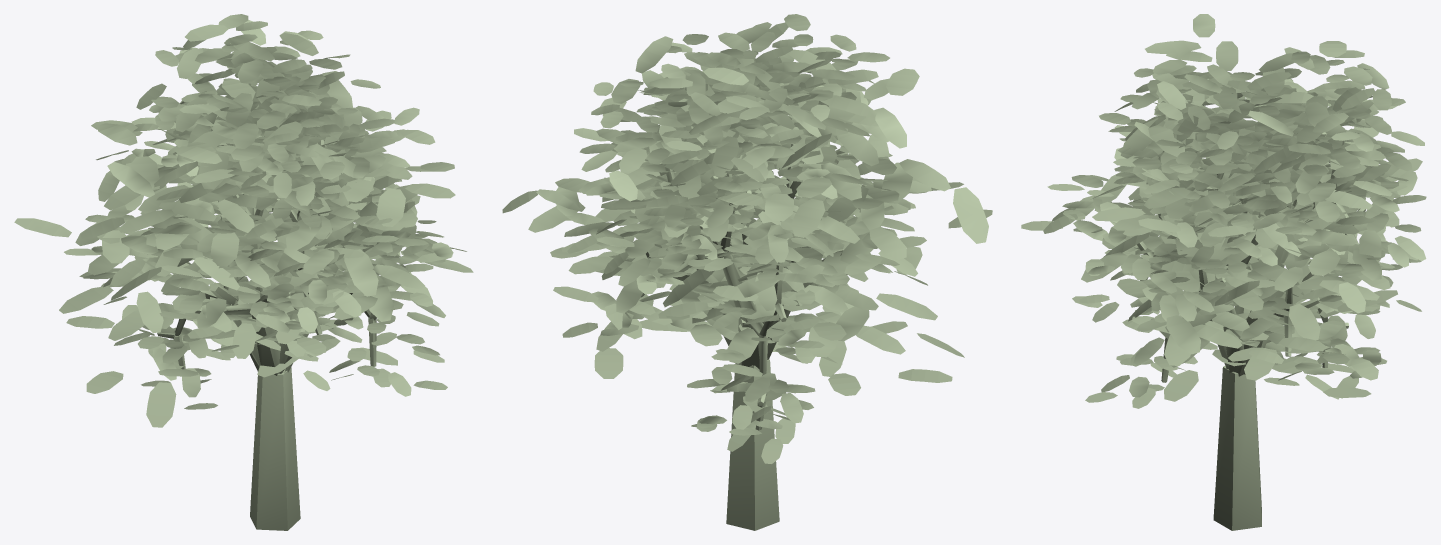
The model's file is tree_oak.glb.
The picture shows the model from 3 angles, left to right: view 1: azimuth 30°, elevation 25°; view 2: azimuth 150°, elevation 25°; view 3: azimuth 270°, elevation 25°; orthographic projection. The views are drawn at different scales.
Parts seen in each view (by area): view 1: tier2_foliage, tier0_foliage, tier1_foliage, tier0_bark, tier1_bark, tier2_bark; view 2: tier2_foliage, tier0_foliage, tier1_foliage, tier0_bark, tier2_bark; view 3: tier2_foliage, tier1_foliage, tier0_foliage, tier0_bark, tier2_bark, tier1_bark.
Part boxes in pixels (x1,y1,x2,y2): tier2_foliage: [64, 21, 453, 409]; tier0_foliage: [14, 24, 473, 427]; tier1_foliage: [92, 14, 435, 358]; tier0_bark: [200, 215, 334, 530]; tier1_bark: [195, 194, 356, 375]; tier2_bark: [146, 139, 376, 373]; tier2_foliage: [567, 22, 892, 463]; tier0_foliage: [528, 49, 992, 395]; tier1_foliage: [502, 14, 963, 376]; tier0_bark: [679, 260, 812, 530]; tier2_bark: [659, 119, 792, 430]; tier2_foliage: [1047, 47, 1426, 408]; tier1_foliage: [1021, 14, 1424, 380]; tier0_foliage: [1081, 40, 1422, 401]; tier0_bark: [1213, 246, 1261, 530]; tier2_bark: [1137, 132, 1365, 382]; tier1_bark: [1152, 157, 1320, 376].
Bounding box in the file's own units: 0.8437 × 1 × 0.7952.
